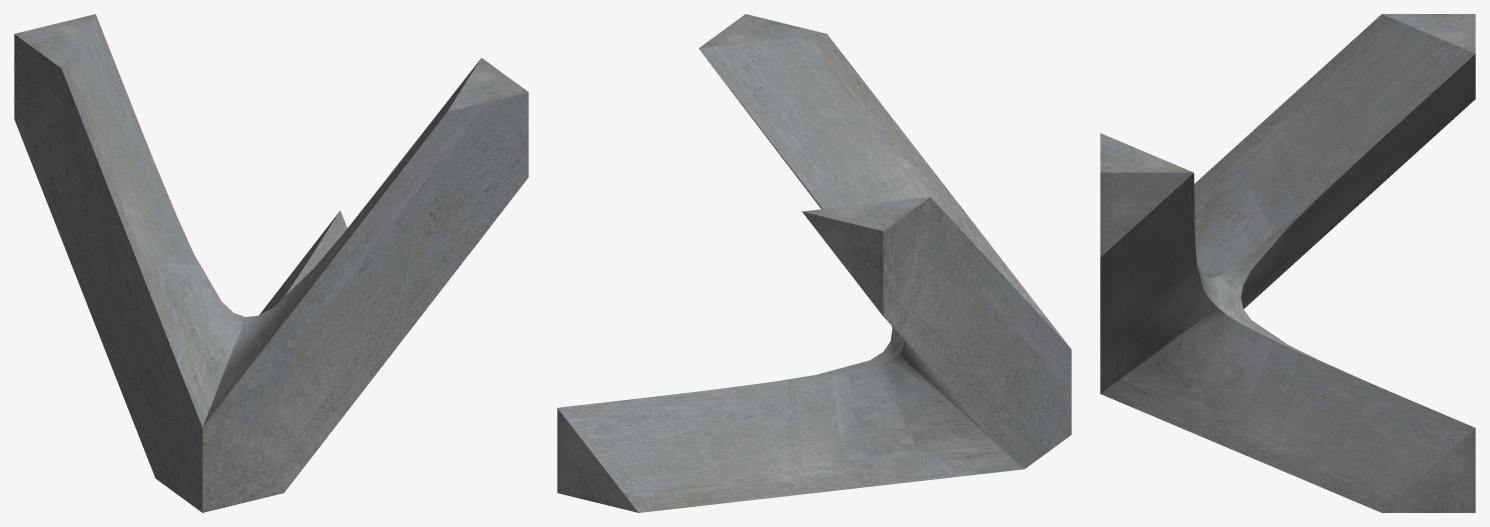
The model's file is module_Q2.fbx.
3 views of the same model, side by side, from view 1: azimuth 30°, elevation 25°; view 2: azimuth 150°, elevation 25°; view 3: azimuth 270°, elevation 25° (orthographic).
Parts seen in each view (by area): view 1: modules; view 2: modules; view 3: modules.
Part boxes in pixels (x1,y1,x2,y2): modules: [14, 14, 528, 512]; modules: [557, 14, 1071, 512]; modules: [1100, 14, 1475, 512].
Size of the model in its own units: 1000 by 1000 by 1000.
Materials: 1 (1 with a texture image).
